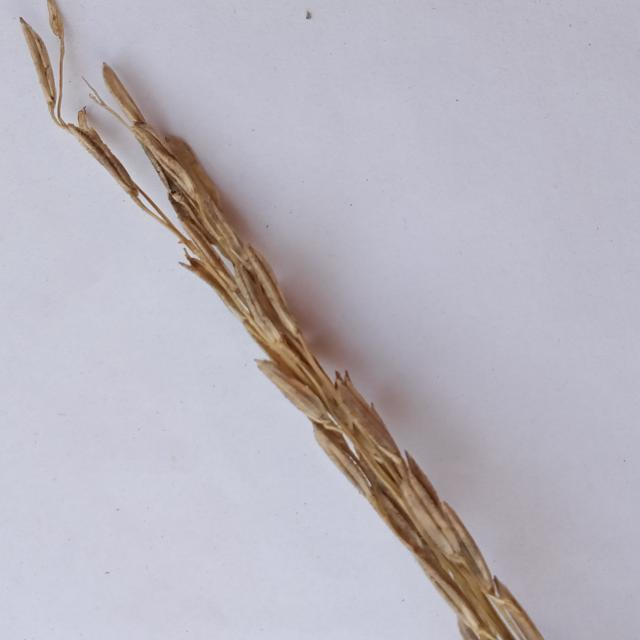Neck_Blast: (19, 11, 549, 638)
